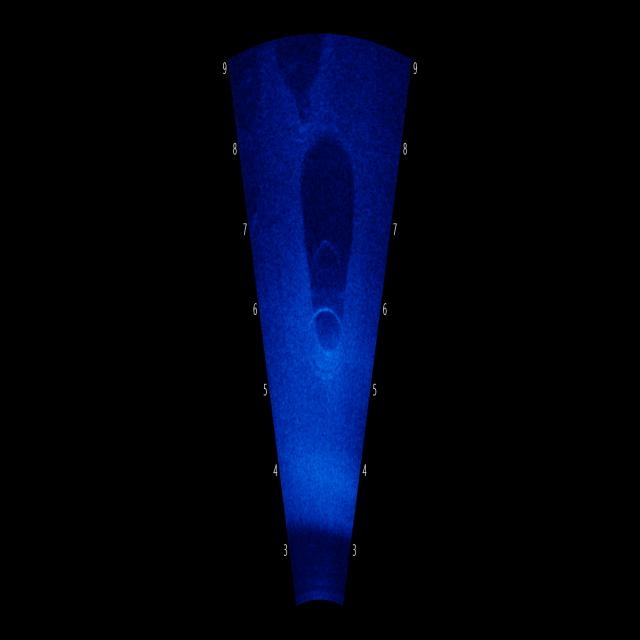circle: (302, 278, 350, 401)
